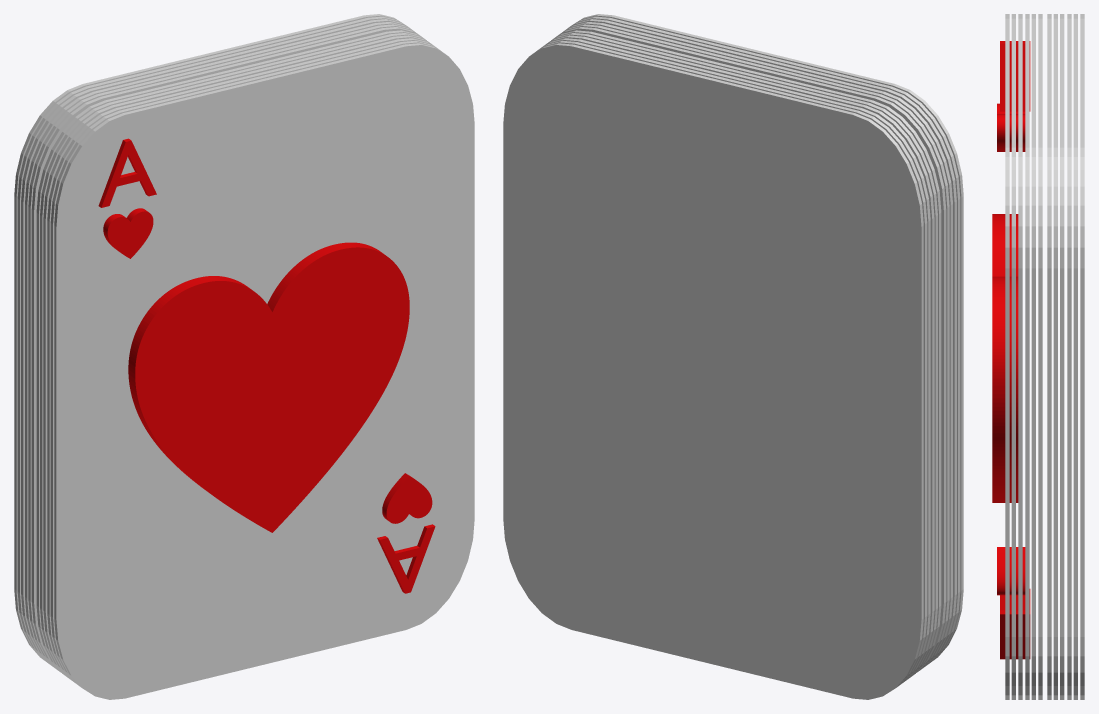
The model's file is cartas.fbx.
3 views of the same model, side by side, from view 1: azimuth 30°, elevation 25°; view 2: azimuth 150°, elevation 25°; view 3: azimuth 270°, elevation 25° (orthographic). The views are drawn at different scales.
Visible parts, largest first — view 1: Cube; view 2: Cube; view 3: Cube.
Part boxes in pixels (box(x1,y1,x2,y2)): Cube: box(14, 14, 474, 699); Cube: box(503, 14, 963, 699); Cube: box(992, 14, 1084, 699).
Size of the model in its own units: 150 by 200 by 30.48.
